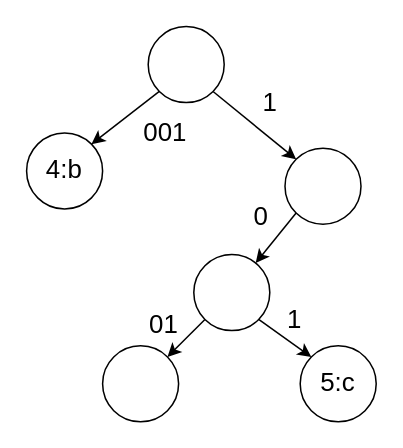
This 403x448 diagram has some shape labels left out. Here are the shapes that lost their labels. From the top down, the centre of each, then its label:
At [322,185]: "1:a".
At [140,383]: "9:d".
